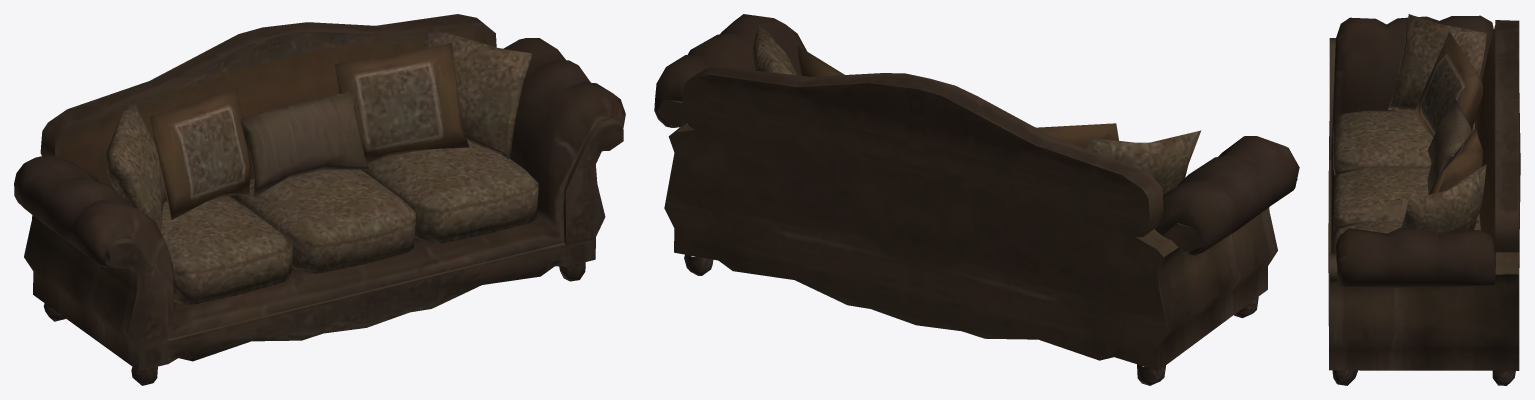
Rendered from sofa3.glb.
The picture shows the model from 3 angles, left to right: view 1: azimuth 30°, elevation 25°; view 2: azimuth 150°, elevation 25°; view 3: azimuth 270°, elevation 25°; orthographic projection. The views are drawn at different scales.
Visible parts, largest first — view 1: sofa3; view 2: sofa3; view 3: sofa3.
Boxes of the visible parts, bbox=[...] form: sofa3: bbox=[14, 14, 625, 385]; sofa3: bbox=[654, 14, 1299, 385]; sofa3: bbox=[1328, 14, 1520, 385].
Size of the model in its own units: 2.72 by 1.12 by 0.9237.
1 material, 1 textured.
